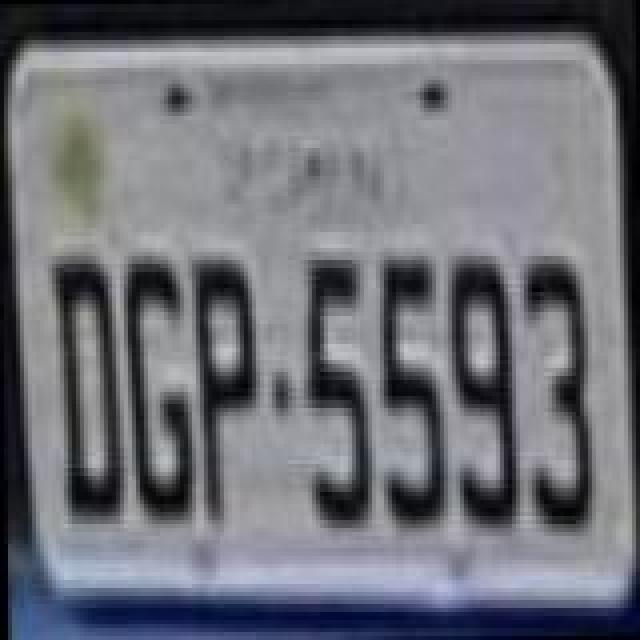3: (518, 252, 594, 540)
5: (304, 252, 376, 532), (376, 250, 448, 530)
9: (448, 250, 520, 530)
D: (50, 262, 126, 530)
G: (118, 252, 194, 520)
P: (192, 254, 264, 534)
